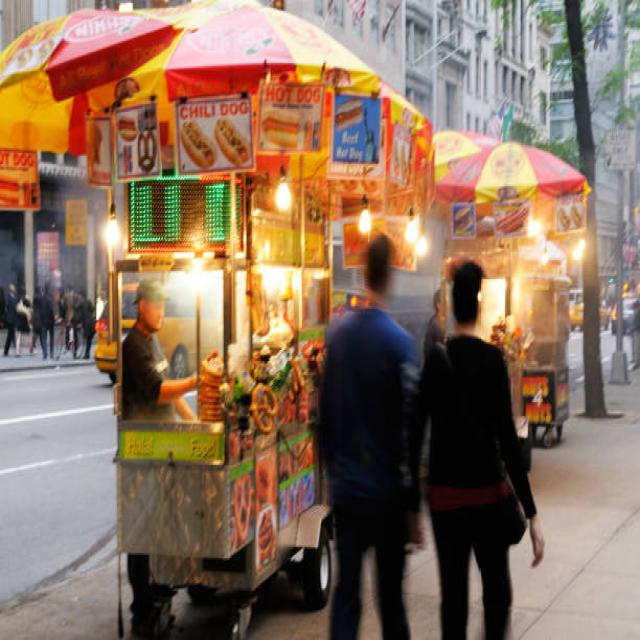Emperan: (73, 60, 359, 640), (424, 120, 594, 493)
